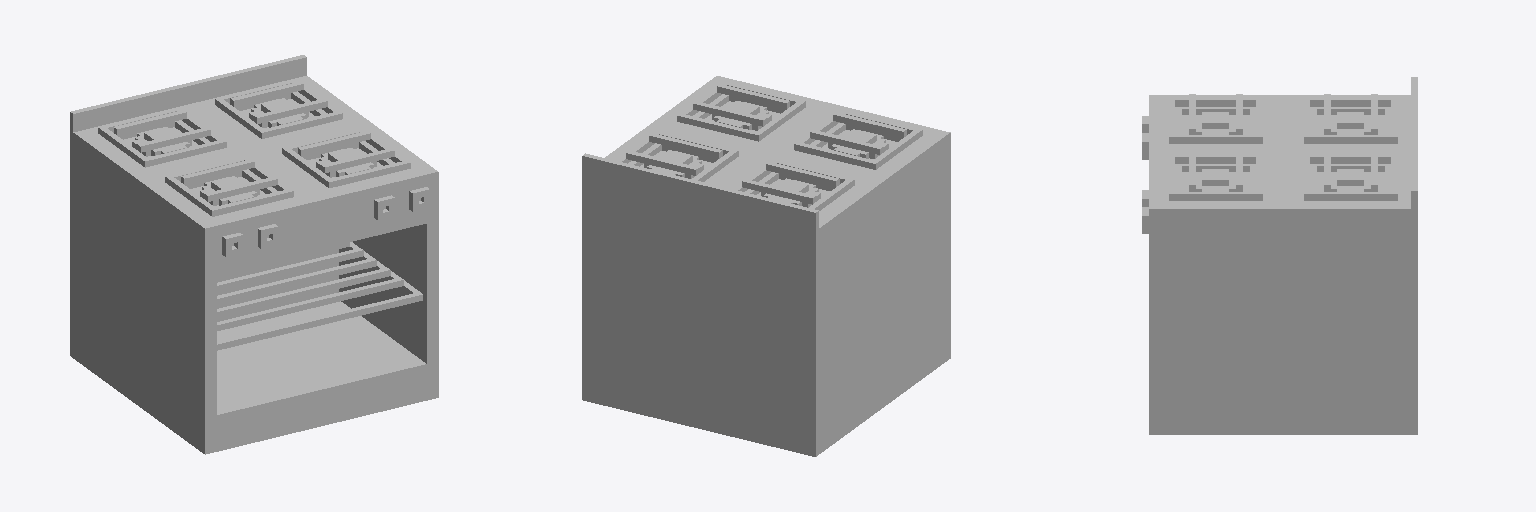
File: furnace.obj
The picture shows the model from 3 angles: view 1: azimuth 30°, elevation 25°; view 2: azimuth 150°, elevation 25°; view 3: azimuth 270°, elevation 25°; orthographic projection.
Parts seen in each view (by area): view 1: furnace; view 2: furnace; view 3: furnace.
Boxes of the visible parts, x1,y1,x2,y2 form: furnace: [70, 55, 438, 454]; furnace: [582, 76, 950, 456]; furnace: [1142, 77, 1417, 434].
Size of the model in its own units: 40 by 40 by 41.